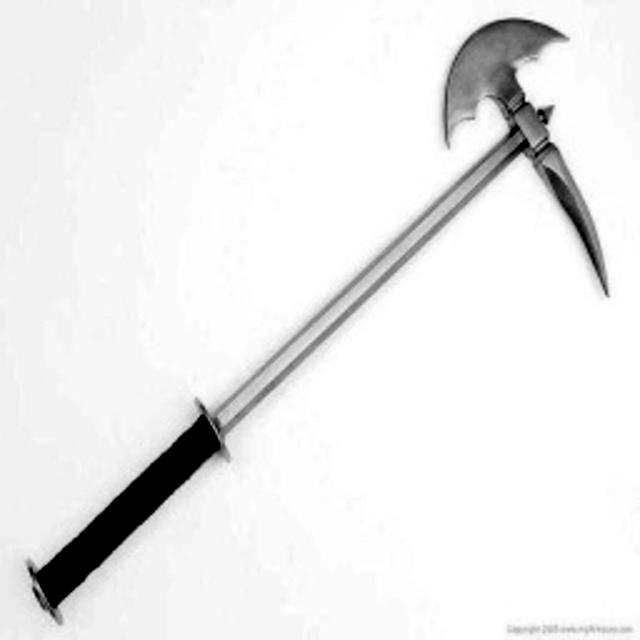ax: (16, 10, 622, 634)
